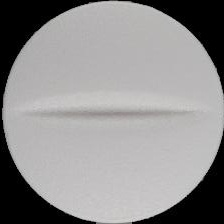54458-889: (0, 0, 224, 224)
